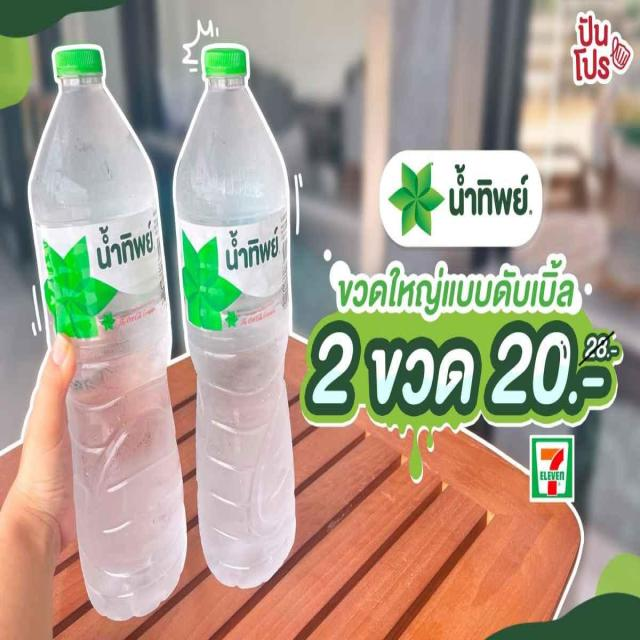plasticbottle: (24, 42, 202, 624)
plasticbottlecap: (41, 42, 129, 114)
